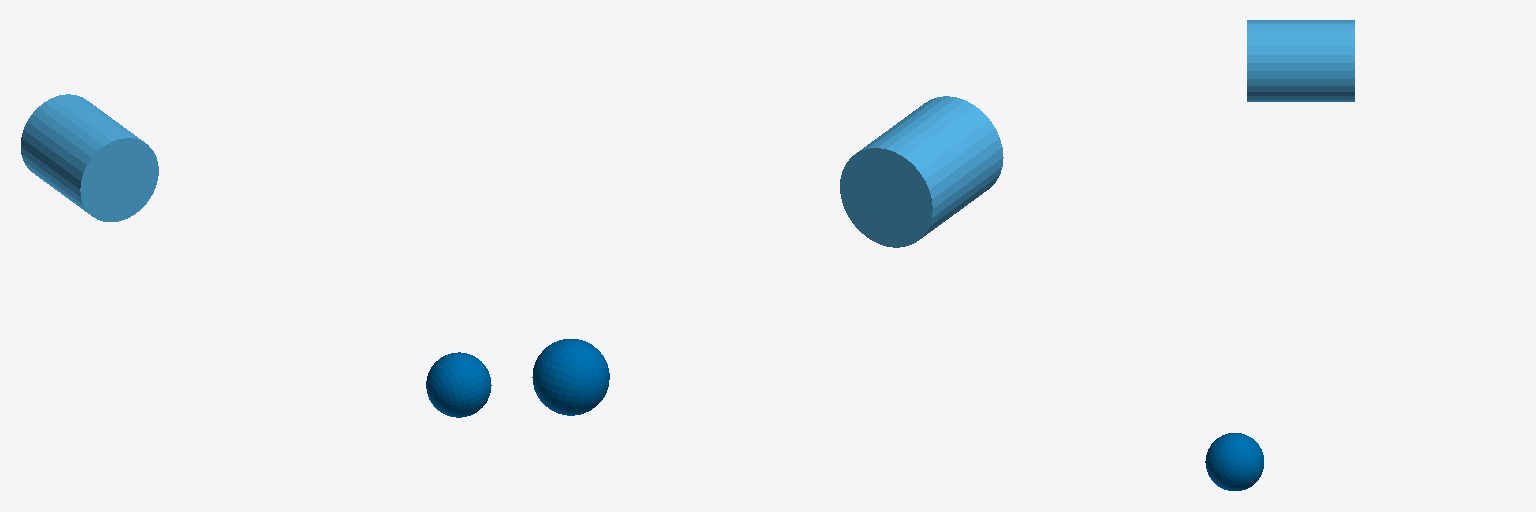
The robot description file, URDF, robot "hyq":
<?xml version="1.0" encoding="utf-8"?>
<robot name="hyq">
  <link name="base_link">
    <inertial>
      <origin xyz="0.0560691331299813 0.021493682967627666 0.0036081141592049586" rpy="0.0 0.0 0.0"/>
      <mass value="60.978"/>
      <inertia ixx="1.5727651692862368" ixy="0.02846518720991833" ixz="-0.20354038112779044" iyy="8.502743030521936" iyz="-0.004425323842294127" izz="9.196486342929056"/>
    </inertial>
  </link>

 <!-- Links -->
  <!-- Hip assembly link -->
  <link name="rf_hipassembly">
    <inertial>
      <origin xyz="-0.010027 -0.010608 0.003644"/>
      <mass value="4.973275"/>
      <inertia ixx="0.011231" ixy="-0.000592" ixz="0.000225" iyy="0.015768" iyz="0.000224" izz="0.016863"/>
    </inertial>
    <visual>
      <origin rpy="0 -1.57079632679 -1.57079632679" xyz="0 -0.046 0"/>
      <geometry>
         --&gt;

        <cylinder length="0.117" radius="0.0444"/>
      </geometry>
    </visual>
  </link>
  <!-- Upper leg link -->
  <link name="rf_upperleg">
    <inertial>
      <origin xyz="0.107987 -0.011459 0.002121"/>
      <mass value="5.877927"/>
      <inertia ixx="0.016432" ixy="0.001863" ixz="-0.003897" iyy="0.075737" iyz="0.00024" izz="0.079267"/>
    </inertial>
    <visual>
      <origin rpy="0 0 0" xyz="0 0 0"/>
      <geometry>
        <mesh filename="package://hyqreal_description/meshes/leg/upperleg.dae" scale="0.001 0.001 0.001"/>
      </geometry>
    </visual>
    <collision>
      <origin rpy="0 0 0" xyz="0 0 0"/>
      <geometry>
        <mesh filename="package://hyqreal_description/meshes/leg/upperleg.dae" scale="0.001 0.001 0.001"/>
      </geometry>
    </collision>
  </link>
  <!-- Lower leg link -->
  <link name="rf_lowerleg">
    <inertial>
      <origin xyz="0.149302 -0.003801 -0.000624"/>
      <mass value="1.291954"/>
      <inertia ixx="0.001088" ixy="-0.000572" ixz="0.000118" iyy="0.029215" iyz="0.00046" izz="0.029772"/>
    </inertial>
    <visual>
      <origin rpy="0 0 0" xyz="0 0 0"/>
      <geometry>
        <mesh filename="package://hyqreal_description/meshes/leg/lowerleg.dae" scale="0.001 0.001 0.001"/>
      </geometry>
      <material name="white"/>
    </visual>
    <collision>
      <origin rpy="0 0 0" xyz="0 0 0"/>
      <geometry>
        <mesh filename="package://hyqreal_description/meshes/leg/lowerleg_decimated.dae" scale="0.001 0.001 0.001"/>
      </geometry>
    </collision>
  </link>
  <!-- Foot link -->
  <link name="rf_foot">
    <visual>
      <origin rpy="0.0 0.0 0.0" xyz="0.0 0.0 0.0"/>
      <geometry>
        <sphere radius="0.032"/>
      </geometry>
      <material name="black"/>
    </visual>
    <collision>
      <origin rpy="0 0 0" xyz="0 0 0"/>
      <geometry>
        <sphere radius="0.032"/>
      </geometry>
    </collision>
  </link>

<!-- Joints -->
  <!-- HAA joint -->
  <joint name="rf_haa_joint" type="revolute">
    <origin rpy="0 1.57079632679 0" xyz="0.4435 -0.139 0"/>
    <parent link="base_link"/>
    <child link="rf_hipassembly"/>
    <axis xyz="0 0 1"/>
    <dynamics damping="0.1" friction="0"/>
    <limit effort="173.0" lower="-0.733038285838" upper="0.401425727959" velocity="12.0"/>
    <safety_controller k_position="50" k_velocity="10" soft_lower_limit="-0.733038285838" soft_upper_limit="0.401425727959"/>
  </joint>
  <!-- HFE joint -->
  <joint name="rf_hfe_joint" type="revolute">
    <origin rpy="-1.57079632679 0 0" xyz="0 -0.117 0"/>
    <parent link="rf_hipassembly"/>
    <child link="rf_upperleg"/>
    <axis xyz="0 0 1"/>
    <dynamics damping="0.1" friction="0"/>
    <limit effort="208" lower="-2.35619449019" upper="2.35619449019" velocity="12.0"/>
    <safety_controller k_position="50" k_velocity="10" soft_lower_limit="-2.35619449019" soft_upper_limit="2.35619449019"/>
  </joint>
  <!-- KFE joint -->
  <joint name="rf_kfe_joint" type="revolute">
    <origin rpy="0 0 0" xyz="0.36 0 0"/>
    <parent link="rf_upperleg"/>
    <child link="rf_lowerleg"/>
    <axis xyz="0 0 1"/>
    <dynamics damping="0.1" friction="0"/>
    <limit effort="249" lower="-2.77001205584" upper="-0.669857366915" velocity="12.0"/>
    <safety_controller k_position="50.0" k_velocity="10.0" soft_lower_limit="-2.77001205584" soft_upper_limit="-0.669857366915"/>
  </joint>
  <!-- Foot joint -->
  <joint name="rf_foot_joint" type="fixed">
    <origin rpy="1.57079632679 0 -1.57079632679" xyz="0.38 0 0"/>
    <parent link="rf_lowerleg"/>
    <child link="rf_foot"/>
  </joint>

</robot>

--- Facts derived from the render (not from the file) ---
Views: 3 orthographic renders of the robot side by side, from view 1: azimuth 30°, elevation 25°; view 2: azimuth 150°, elevation 25°; view 3: azimuth 270°, elevation 25°.
Robot: hyq — 5 links, 4 joints (3 revolute, 1 fixed); root link base_link; default pose: all joints at 0 but 1 set to mid-range because 0 is outside their limits (rf_kfe_joint = -1.72).
Visible links, largest first — view 1: rf_hipassembly, rf_foot; view 2: rf_hipassembly, rf_foot; view 3: rf_hipassembly, rf_foot.
Link boxes in pixels (box(x1,y1,x2,y2)): rf_hipassembly: box(21, 94, 158, 221); rf_foot: box(426, 352, 491, 417); rf_hipassembly: box(840, 96, 1003, 247); rf_foot: box(532, 339, 609, 415); rf_hipassembly: box(1247, 20, 1354, 101); rf_foot: box(1205, 433, 1263, 490).
Bounding box of the posed robot: 0.4521 × 0.1615 × 0.3799 m (x, y, z).
0 mesh visuals loaded from 2 distinct referenced files (none loaded); not drawn: 2 (reference not matched to a file when rendering).